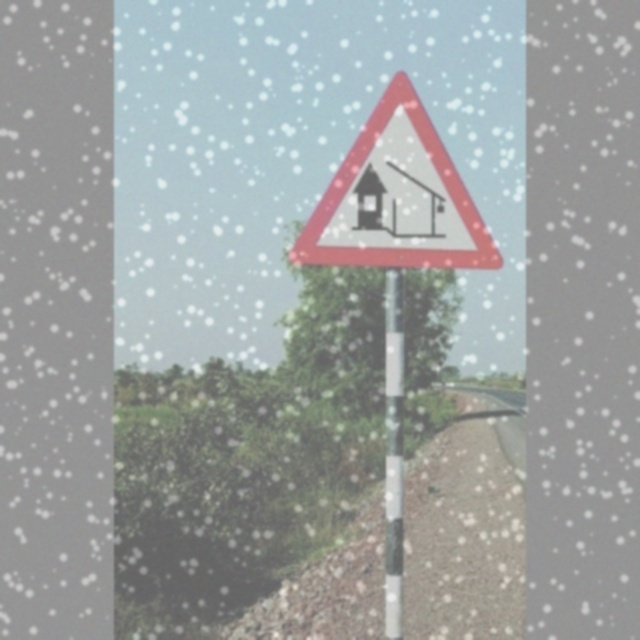Barrier_Ahead: (289, 71, 503, 283)
